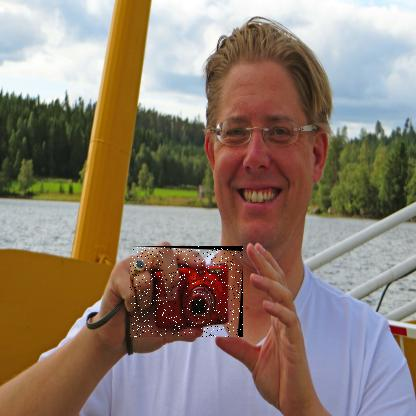Camera: (131, 247, 245, 339)
